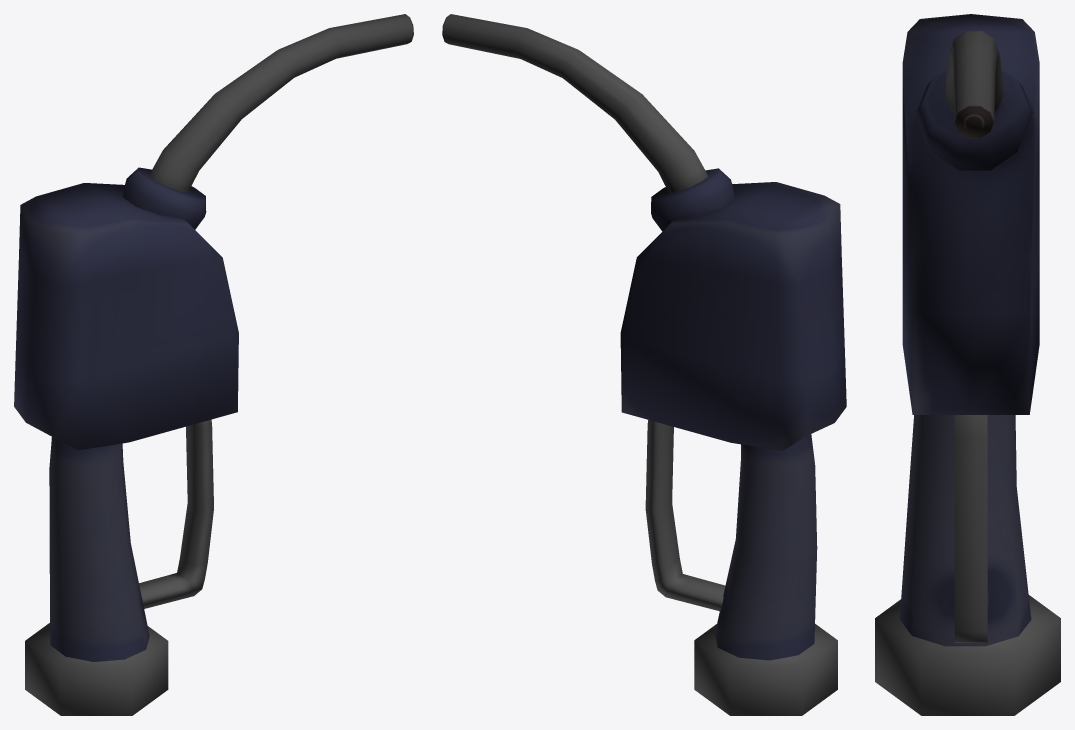
The model's file is GasPump_Handle.fbx.
3 renders of one model, left to right at view 1: azimuth 30°, elevation 25°; view 2: azimuth 150°, elevation 25°; view 3: azimuth 270°, elevation 25°, orthographic. The views are drawn at different scales.
Visible parts, largest first — view 1: Pump_low; view 2: Pump_low; view 3: Pump_low.
Boxes of the visible parts, x1,y1,x2,y2 form: Pump_low: (14,14,413,715); Pump_low: (442,14,846,715); Pump_low: (875,14,1060,715).
Bounding box in the file's own units: 0.9442 × 1.41 × 0.3054.
